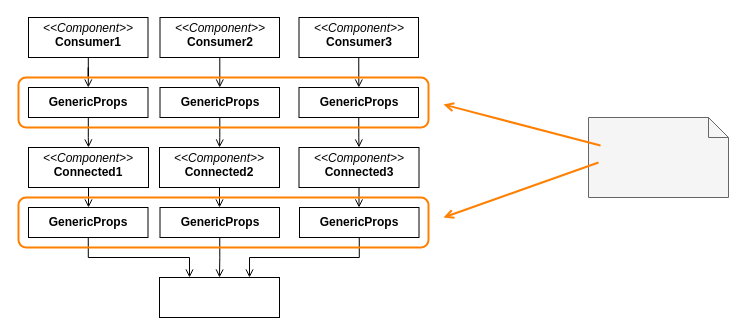
Some shapes in this 746 by 335 pixel diagram are drawn without their labels. The box of each missing label's shape, as (x1, y1, x2, y2) in pixels:
<<Component>> Generic: (158, 276, 280, 318)
Pass these through: (588, 116, 728, 198)
